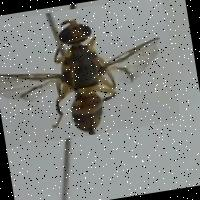Oriental-fruit-fly: (0, 0, 181, 147)
